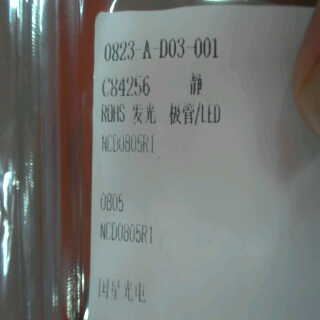LED: (128, 99, 222, 129)
